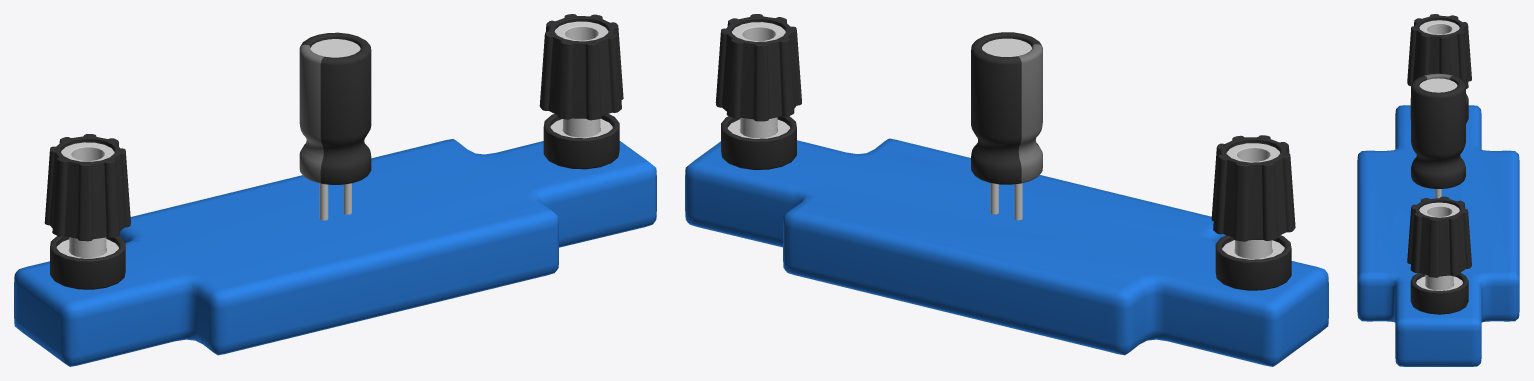
File: Capacitor.fbx
3 views of the same model, side by side, from view 1: azimuth 30°, elevation 25°; view 2: azimuth 150°, elevation 25°; view 3: azimuth 270°, elevation 25° (orthographic). The views are drawn at different scales.
Parts seen in each view (by area): view 1: Resistor.004, Cylinder.028, Cylinder.029, Cylinder.010; view 2: Resistor.004, Cylinder.028, Cylinder.029, Cylinder.010; view 3: Resistor.004, Cylinder.028, Cylinder.029, Cylinder.010.
Boxes of the visible parts, x1,y1,x2,y2 form: Resistor.004: (14, 139, 656, 366); Cylinder.028: (44, 14, 623, 257); Cylinder.029: (299, 32, 371, 220); Cylinder.010: (50, 114, 619, 289); Resistor.004: (685, 138, 1328, 366); Cylinder.028: (715, 14, 1295, 258); Cylinder.029: (971, 32, 1042, 220); Cylinder.010: (721, 116, 1291, 290); Resistor.004: (1357, 105, 1519, 366); Cylinder.028: (1407, 14, 1471, 290); Cylinder.029: (1411, 73, 1465, 198); Cylinder.010: (1410, 94, 1468, 314).
Size of the model in its own units: 236 by 88.15 by 73.78.
